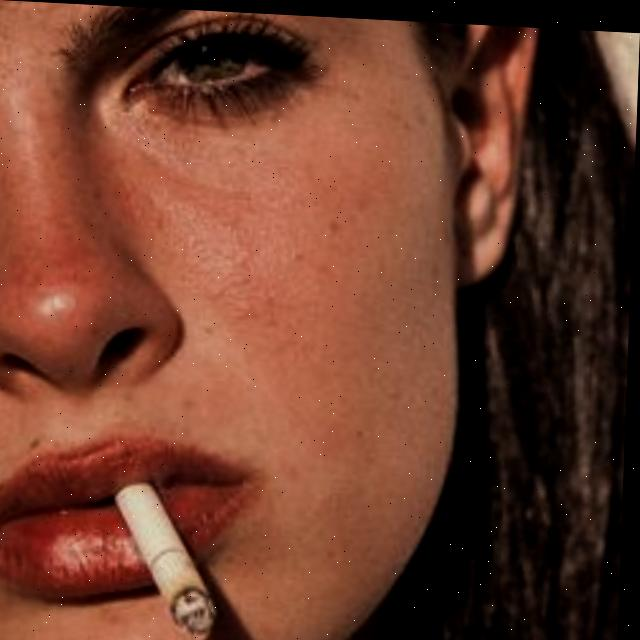cigarette: (113, 470, 227, 639)
